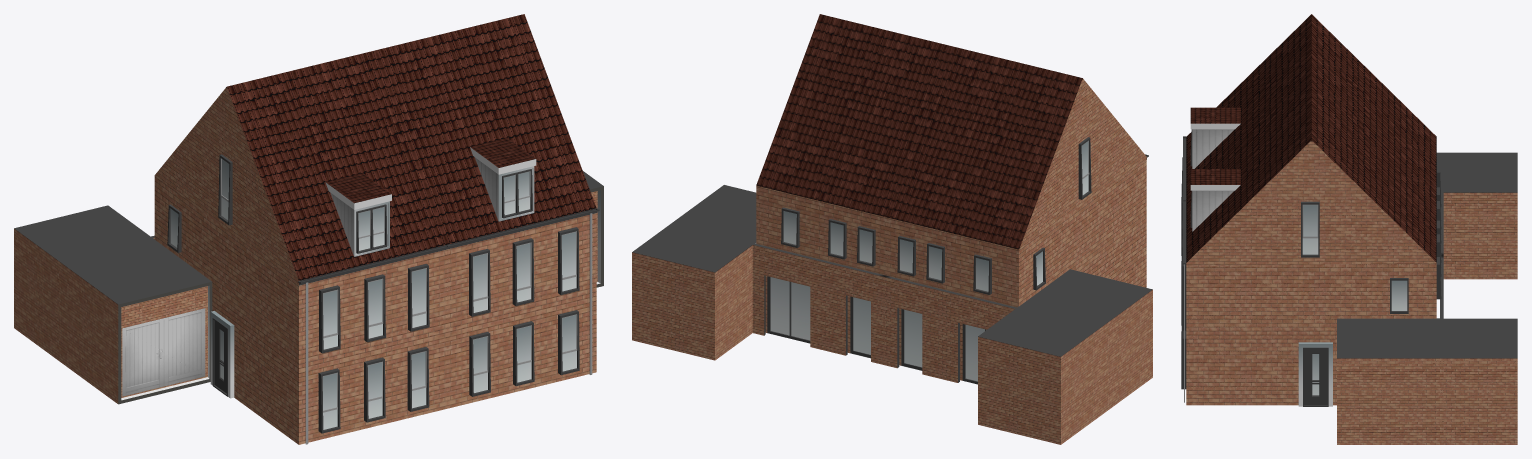
Rendered from Woning 39723 C.fbx.
3 views of the same model, side by side, from view 1: azimuth 30°, elevation 25°; view 2: azimuth 150°, elevation 25°; view 3: azimuth 270°, elevation 25° (orthographic). The views are drawn at different scales.
Parts seen in each view (by area): view 1: Woning_39723_C; view 2: Woning_39723_C; view 3: Woning_39723_C.
Boxes of the visible parts, left/top/right/bottom form: Woning_39723_C: left=14, top=14, right=603, bottom=444; Woning_39723_C: left=632, top=14, right=1152, bottom=444; Woning_39723_C: left=1181, top=14, right=1517, bottom=444.
Bounding box in the file's own units: 1780 × 1070 × 1231.
